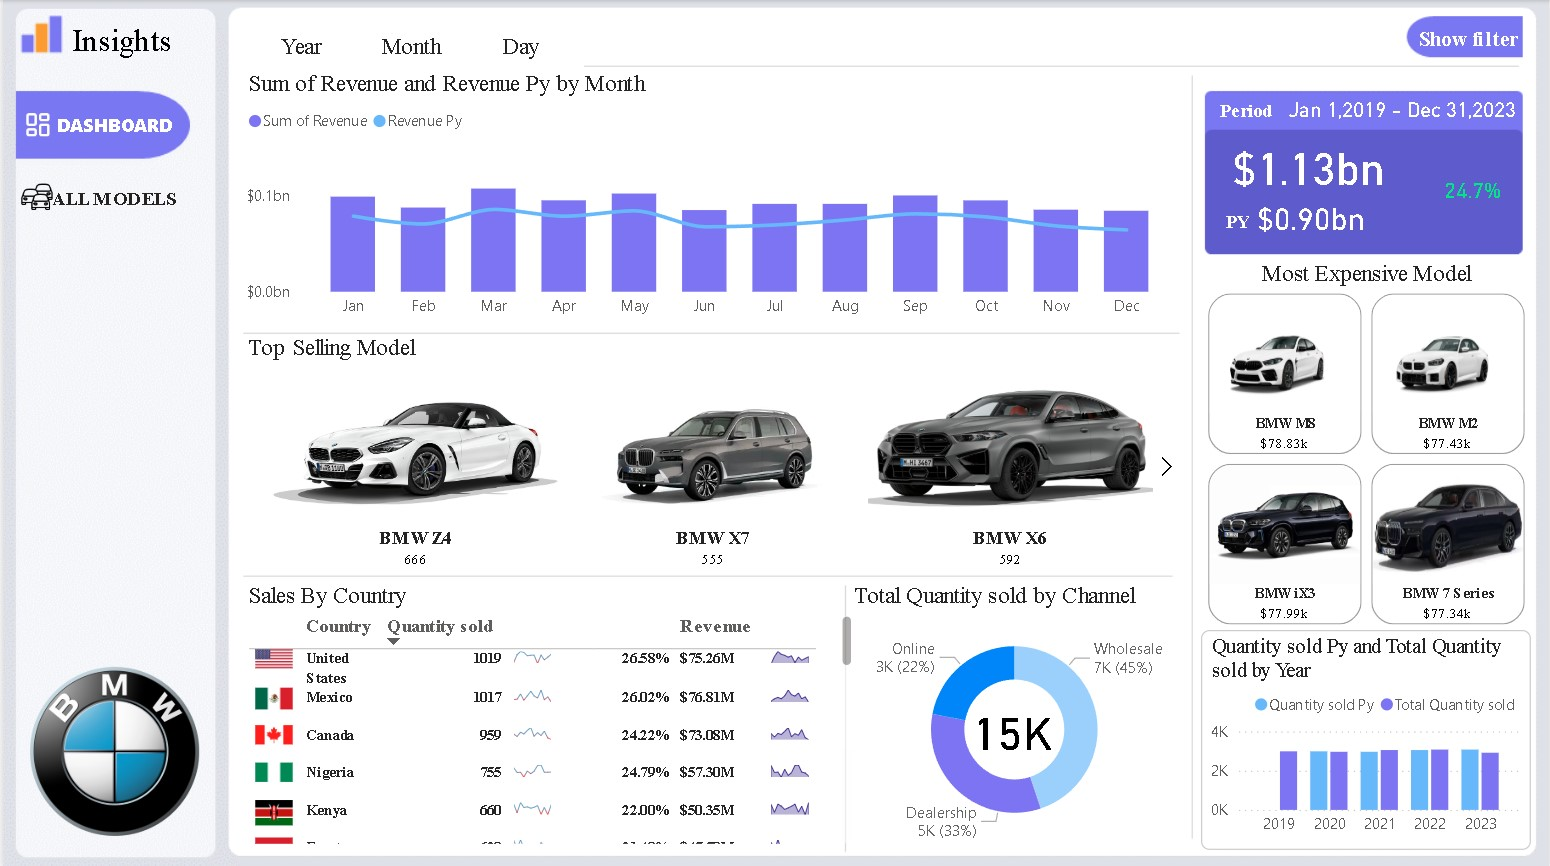

The page's visual inventory and layout, read from the dashboard file:
{"tool":"powerbi","page":{"name":"DASHBOARD","canvas":[1280,720],"ordinal":0},"visuals":[{"type":"lineStackedColumnComboChart","fields":{"Category":["calender Table.Month"],"Y":["Sum(BMW_Sales_Data.Revenue)"],"Y2":["BMW_Sales_Data.Revenue Py"]},"box":[197.8,60,779.4,210.8],"z":0},{"type":"advancedSlicerVisual","fields":{"Values":["PeriodSlicer.PeriodSlicer"]},"box":[197.8,11,282.8,49],"z":1000},{"type":"card","fields":{"Values":["Sum(BMW_Sales_Data.Revenue)"]},"box":[995.2,107.9,169.9,58],"z":2000},{"type":"card","title":"PY","fields":{"Values":["BMW_Sales_Data.Revenue Py"]},"box":[1020.2,159.9,124.9,42],"z":3000},{"type":"textbox","box":[1007.2,168.9,40,48],"z":4000},{"type":"card","title":"PY","fields":{"Values":["BMW_Sales_Data.Revenue Varience"]},"box":[1174.1,136.9,82.9,42],"z":5000},{"type":"card","title":"PY","fields":{"Values":["BMW_Sales_Data.Selected Period"]},"box":[1058.2,74.9,198.8,33],"z":6000},{"type":"textbox","box":[1002.2,76.9,69.9,33],"z":7000},{"type":"advancedSlicerVisual","title":"Top Selling Model","fields":{"Values":["dimModel.Model"]},"box":[197.4,278.2,780.1,195.5],"z":8000},{"type":"advancedSlicerVisual","title":"Most  Expensive Model","fields":{"Values":["dimModel.Model"]},"box":[977.5,216.9,302.5,306.4],"z":9000},{"type":"clusteredColumnChart","fields":{"Category":["calender Table.Year"],"Y":["BMW_Sales_Data.Quantity sold Py","BMW_Sales_Data.Total Quantity sold"]},"box":[991.1,521.3,273.3,181.9],"z":10000},{"type":"donutChart","fields":{"Category":["dimChannel.Channel"],"Y":["BMW_Sales_Data.Total Quantity sold"]},"box":[699.3,483.4,275.3,219.8],"z":11000},{"type":"tableEx","title":"Sales By Country","fields":{"Values":["dimCountry.Countries with Flags URL.Flag","dimCountry.Country","BMW_Sales_Data.Total Quantity sold","BMW_Sales_Data.Gradient Sparkline","BMW_Sales_Data.Quantity Varience","BMW_Sales_Data.Total Revenue M","BMW_Sales_Data.Area Sparkline"]},"box":[197.4,483.4,509.7,219.8],"z":12000},{"type":"card","fields":{"Values":["BMW_Sales_Data.Total Quantity sold"]},"box":[780.1,579.7,109.9,48.6],"z":13000},{"type":"pageNavigator","box":[32.1,76.8,120.6,114.8],"z":14000},{"type":"image","box":[12.6,82.7,33.1,40.9],"z":15000},{"type":"image","box":[8.8,144.9,37.9,36],"z":16000},{"type":"image","box":[17.5,524.3,149.8,195.5],"z":17000},{"type":"actionButton","box":[1157.4,13.6,101.2,39.9],"z":19000},{"type":"textbox","box":[51.8,13.2,109.8,47.4],"z":20000},{"type":"image","box":[2.6,3.5,58.8,47.4],"z":21000}]}

Visuals, with their boxes in screenshot pixels (x1, y1, x2, y2), scaled from the page's 1280x720 canvas onto the 1550x866 screenshot:
lineStackedColumnComboChart - calender Table.Month x Sum(BMW_Sales_Data.Revenue): x1=240, y1=72, x2=1183, y2=326
advancedSlicerVisual - PeriodSlicer.PeriodSlicer: x1=240, y1=13, x2=582, y2=72
card - Sum(BMW_Sales_Data.Revenue): x1=1205, y1=130, x2=1411, y2=200
"PY" card: x1=1235, y1=192, x2=1387, y2=243
textbox: x1=1220, y1=203, x2=1268, y2=261
"PY" card: x1=1422, y1=165, x2=1522, y2=215
"PY" card: x1=1281, y1=90, x2=1522, y2=130
textbox: x1=1214, y1=92, x2=1298, y2=132
"Top Selling Model" advancedSlicerVisual: x1=239, y1=335, x2=1184, y2=570
"Most  Expensive Model" advancedSlicerVisual: x1=1184, y1=261, x2=1549, y2=629
clusteredColumnChart - calender Table.Year x BMW_Sales_Data.Quantity sold Py: x1=1200, y1=627, x2=1531, y2=846
donutChart - dimChannel.Channel x BMW_Sales_Data.Total Quantity sold: x1=847, y1=581, x2=1180, y2=846
"Sales By Country" tableEx: x1=239, y1=581, x2=856, y2=846
card - BMW_Sales_Data.Total Quantity sold: x1=945, y1=697, x2=1078, y2=756
pageNavigator: x1=39, y1=92, x2=185, y2=230
image: x1=15, y1=99, x2=55, y2=149
image: x1=11, y1=174, x2=57, y2=218
image: x1=21, y1=631, x2=203, y2=865
actionButton: x1=1402, y1=16, x2=1524, y2=64
textbox: x1=63, y1=16, x2=196, y2=73
image: x1=3, y1=4, x2=74, y2=61
